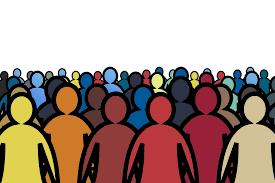NoHuman: (0, 1, 275, 180)
